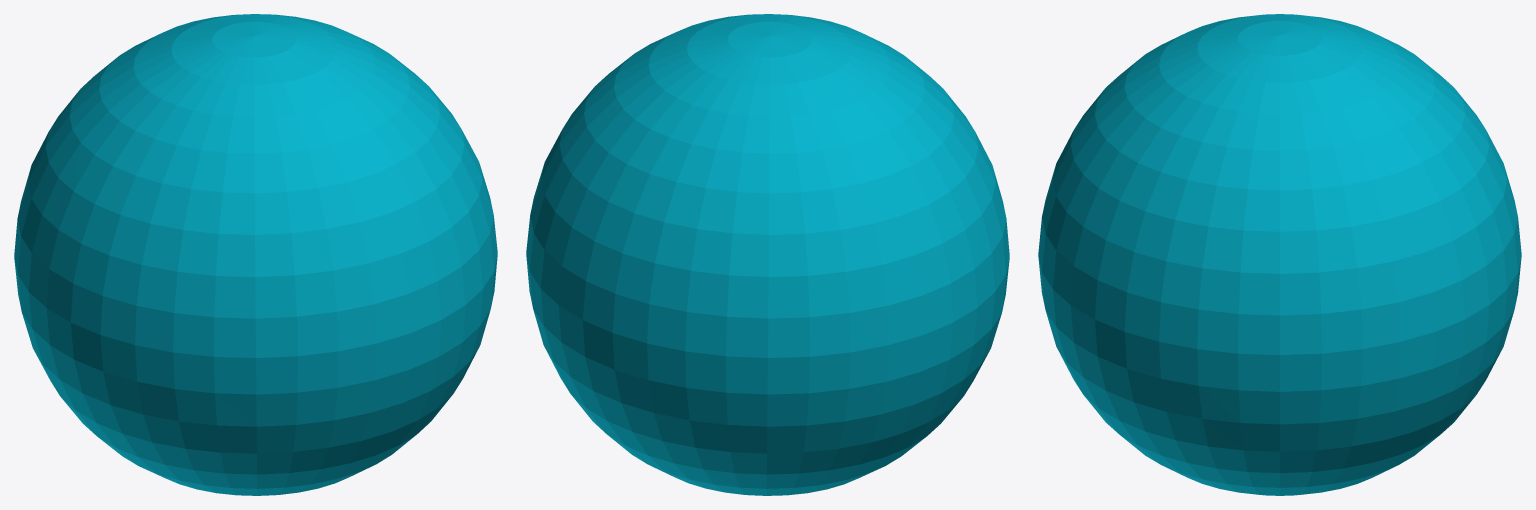
File: dalton.glb
The picture shows the model from 3 angles, left to right: view 1: azimuth 30°, elevation 25°; view 2: azimuth 150°, elevation 25°; view 3: azimuth 270°, elevation 25°; orthographic projection.
Parts seen in each view (by area): view 1: Mesh_Mesh_head_geo.001_lambert2SG.001; view 2: Mesh_Mesh_head_geo.001_lambert2SG.001; view 3: Mesh_Mesh_head_geo.001_lambert2SG.001.
Part boxes in pixels (x1,y1,x2,y2): Mesh_Mesh_head_geo.001_lambert2SG.001: [14, 14, 497, 495]; Mesh_Mesh_head_geo.001_lambert2SG.001: [526, 14, 1009, 495]; Mesh_Mesh_head_geo.001_lambert2SG.001: [1038, 14, 1521, 495].
Bounding box in the file's own units: 20 × 20 × 20.
